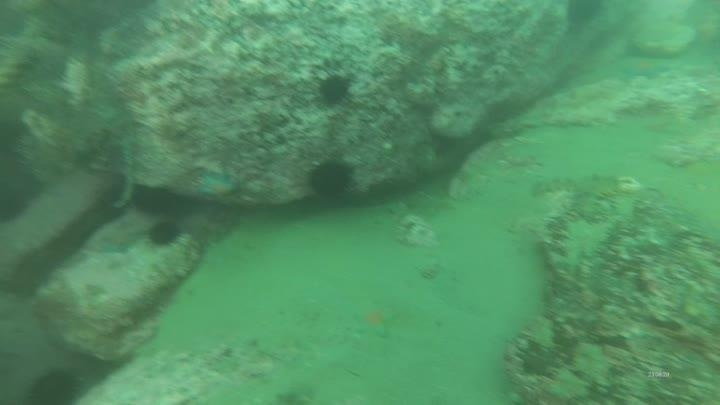echinus: (305, 156, 357, 203), (25, 366, 84, 405), (314, 71, 354, 108), (145, 217, 184, 250), (563, 1, 607, 29)
holothurian: (575, 172, 622, 222), (525, 173, 579, 201)
starfish: (351, 301, 398, 341), (193, 167, 242, 203), (94, 222, 143, 258), (616, 54, 673, 84)
